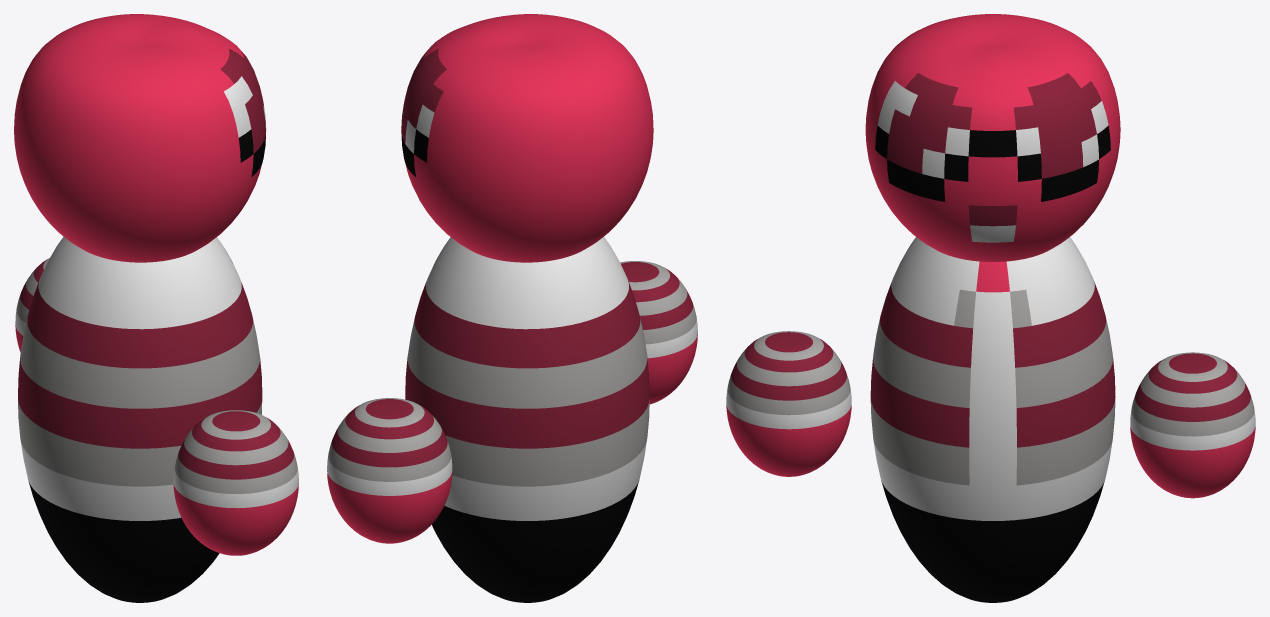
File: strategicred.fbx
The picture shows the model from 3 angles, left to right: view 1: azimuth 30°, elevation 25°; view 2: azimuth 150°, elevation 25°; view 3: azimuth 270°, elevation 25°; orthographic projection.
Parts seen in each view (by area): view 1: Body, Head, Arm 1, Arm 2; view 2: Body, Head, Arm 2, Arm 1; view 3: Body, Head, Arm 2, Arm 1.
Boxes of the visible parts, bbox=[...] form: Body: bbox=[18, 236, 262, 602]; Head: bbox=[14, 14, 266, 262]; Arm 1: bbox=[173, 410, 298, 555]; Arm 2: bbox=[15, 258, 49, 352]; Body: bbox=[405, 237, 649, 602]; Head: bbox=[401, 14, 653, 262]; Arm 2: bbox=[327, 398, 452, 543]; Arm 1: bbox=[620, 261, 697, 404]; Body: bbox=[870, 237, 1115, 602]; Head: bbox=[865, 14, 1120, 261]; Arm 2: bbox=[1130, 352, 1255, 498]; Arm 1: bbox=[726, 331, 851, 476].
Bounding box in the file's own units: 203 × 497 × 427.
